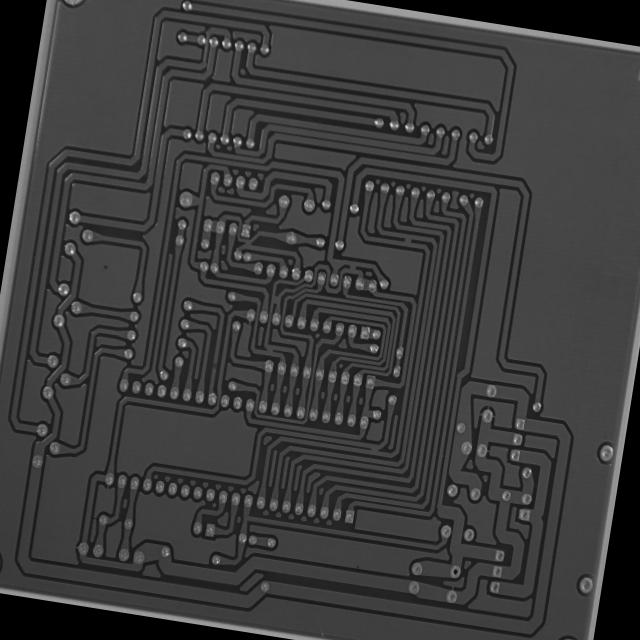short: (262, 341, 278, 359), (367, 441, 383, 458), (344, 258, 360, 274), (401, 233, 416, 249), (269, 292, 284, 308)
